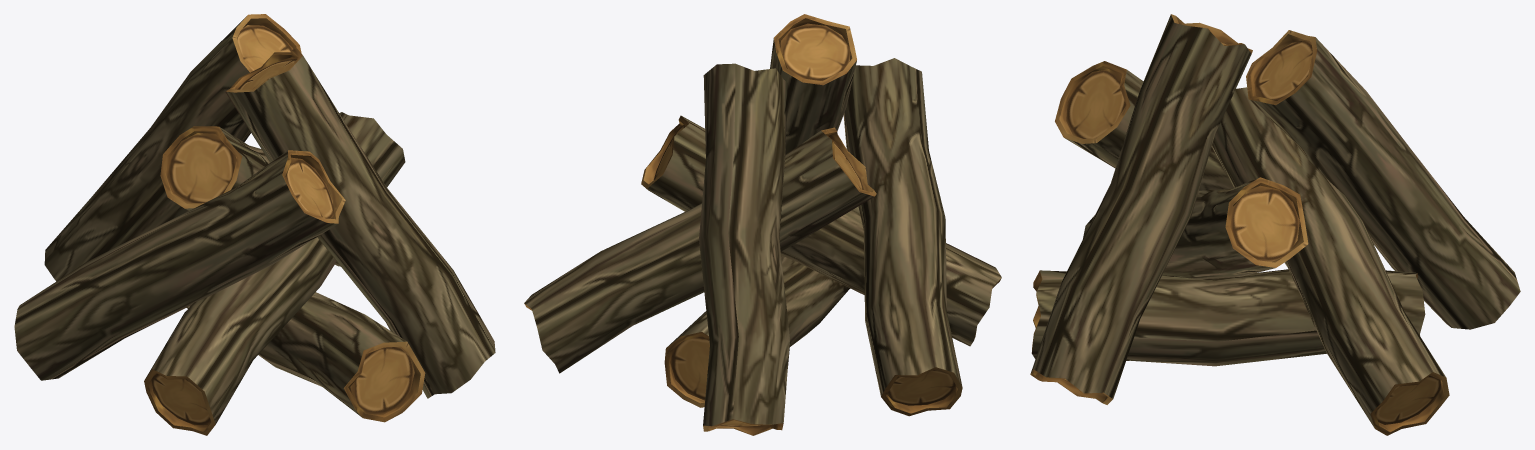
Rendered from Campfire02.fbx.
3 renders of one model, left to right at view 1: azimuth 30°, elevation 25°; view 2: azimuth 150°, elevation 25°; view 3: azimuth 270°, elevation 25°, orthographic. The views are drawn at different scales.
Visible parts, largest first — view 1: Campfire02_LOD0; view 2: Campfire02_LOD0; view 3: Campfire02_LOD0.
Boxes of the visible parts, x1=… form: Campfire02_LOD0: x1=14, y1=14, x2=495, y2=435; Campfire02_LOD0: x1=524, y1=14, x2=1001, y2=435; Campfire02_LOD0: x1=1030, y1=14, x2=1520, y2=435.
Size of what is drawn, in the model's own units: 54.03 by 41.17 by 54.49.
